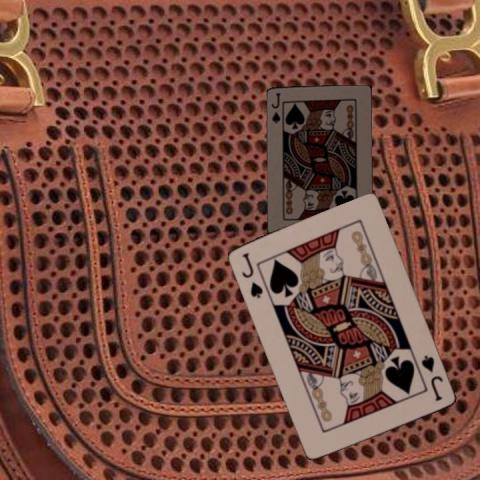Js: (418, 352, 444, 403), (238, 249, 264, 300), (269, 90, 282, 125)
